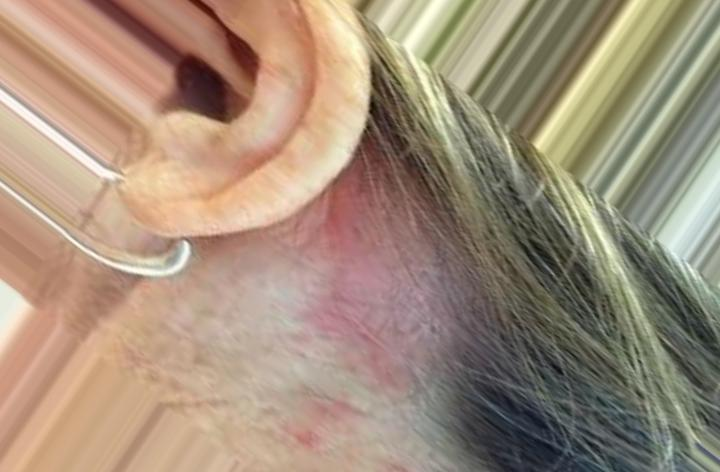Contact Dermatitis: (195, 259, 448, 445)
